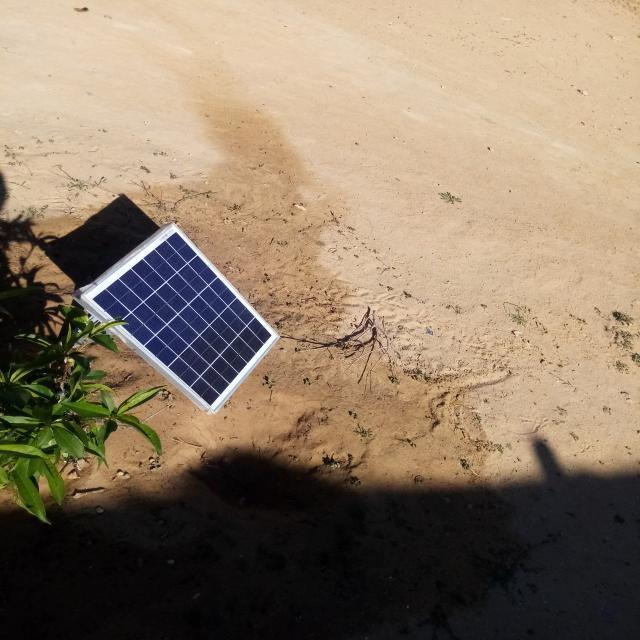no faulty: (82, 223, 279, 412)
